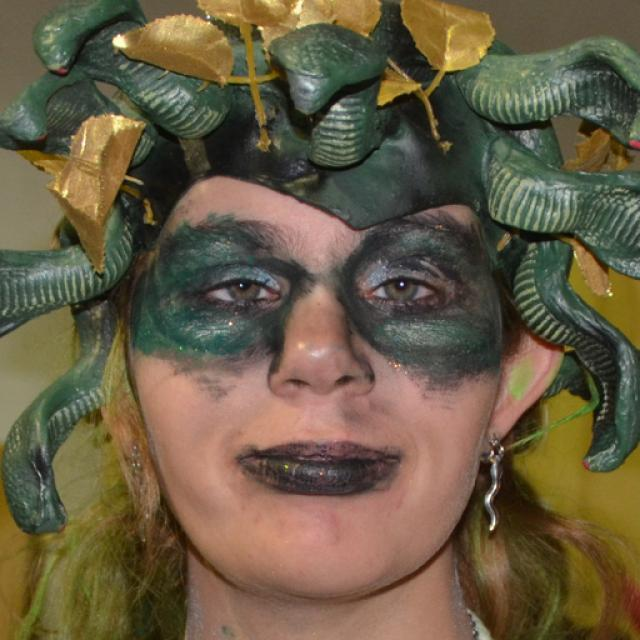surprise: (128, 168, 504, 604)
